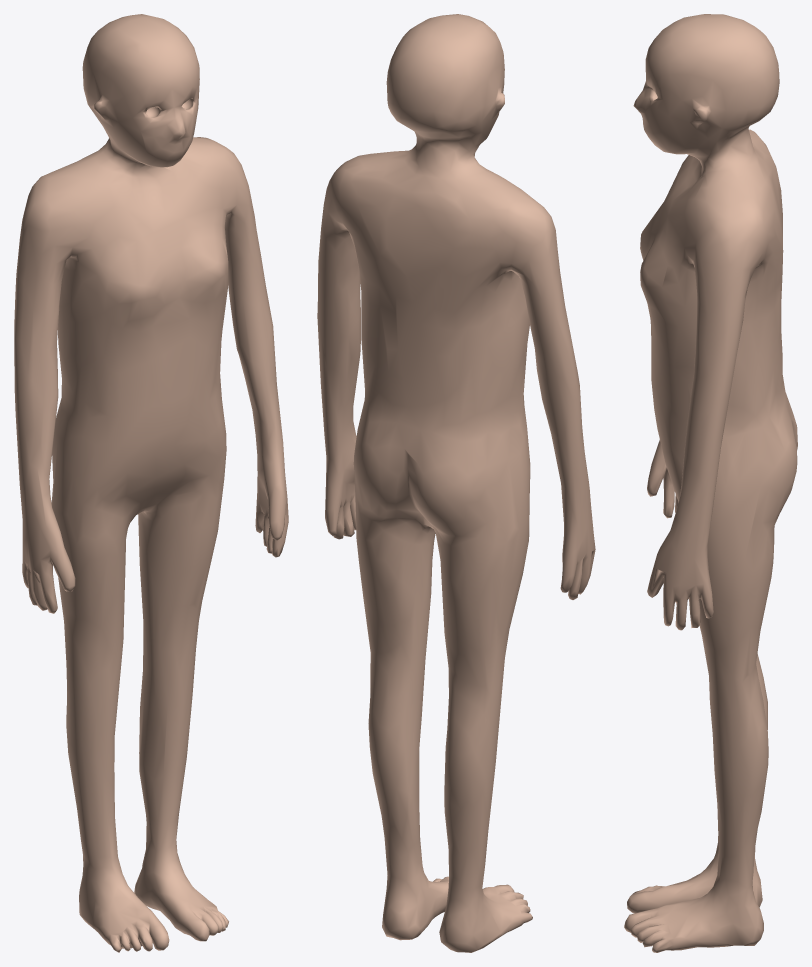
File: pediatric_child_10y_female.surface.LOD2.glb
3 renders of one model, left to right at view 1: azimuth 30°, elevation 25°; view 2: azimuth 150°, elevation 25°; view 3: azimuth 270°, elevation 25°, orthographic.
Visible parts, largest first — view 1: PEDIATRIC.CHILD_10Y.FEMALE.SURFACE.SKIN; view 2: PEDIATRIC.CHILD_10Y.FEMALE.SURFACE.SKIN; view 3: PEDIATRIC.CHILD_10Y.FEMALE.SURFACE.SKIN.
Boxes of the visible parts, <box> form: PEDIATRIC.CHILD_10Y.FEMALE.SURFACE.SKIN: <box>14,14,288,952</box>; PEDIATRIC.CHILD_10Y.FEMALE.SURFACE.SKIN: <box>317,14,595,952</box>; PEDIATRIC.CHILD_10Y.FEMALE.SURFACE.SKIN: <box>624,14,797,952</box>.
Bounding box in the file's own units: 0.4128 × 1.38 × 0.2407.
